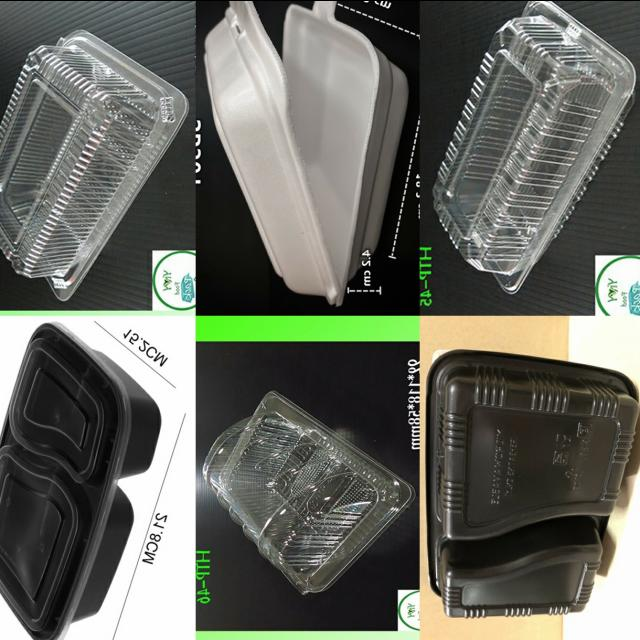plastik: (204, 0, 409, 305), (432, 0, 635, 293), (427, 349, 638, 617), (0, 322, 161, 640), (0, 29, 188, 299), (203, 390, 415, 593)
